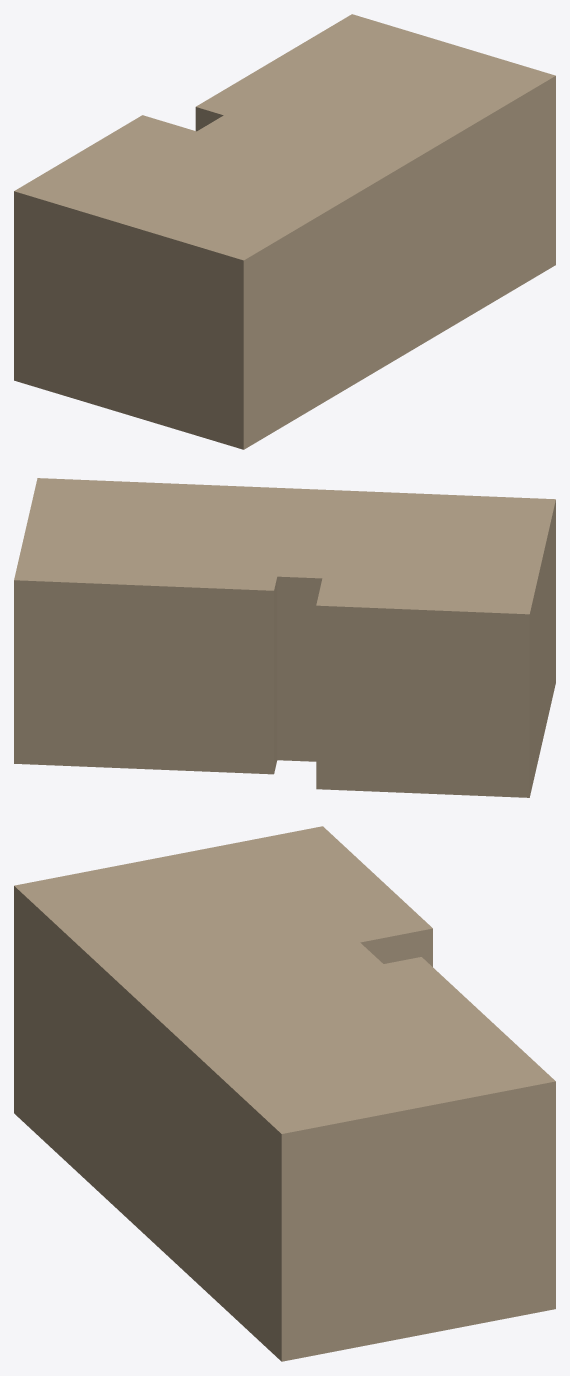
File: bld_99876969.dae
3 renders of one model, top to bottom at view 1: azimuth 30°, elevation 25°; view 2: azimuth 150°, elevation 25°; view 3: azimuth 270°, elevation 25°, orthographic. The views are drawn at different scales.
Parts seen in each view (by area): view 1: bld_99876969; view 2: bld_99876969; view 3: bld_99876969.
Boxes of the visible parts, box(x1,y1,x2,y2) form: bld_99876969: box(14, 14, 555, 449); bld_99876969: box(14, 478, 555, 797); bld_99876969: box(14, 826, 555, 1361).
Bounding box in the file's own units: 23.2 × 17.26 × 8.
